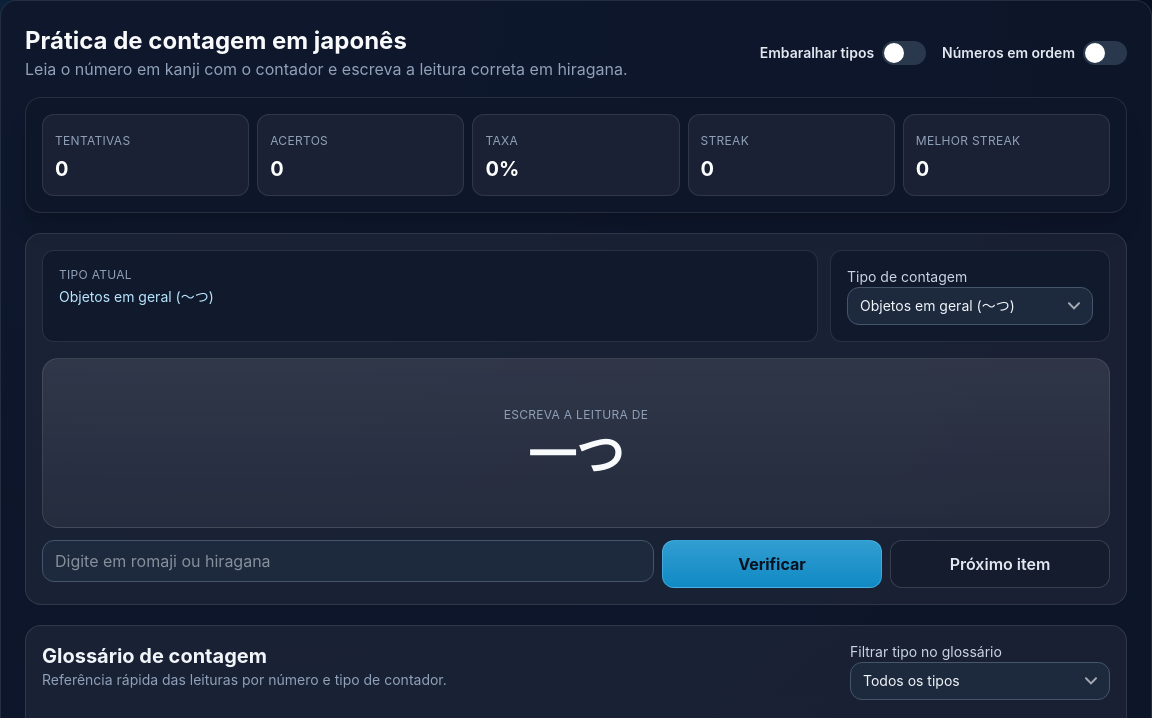
Test: CountingPracticeView › filtra o glossário pelo tipo selecionado
Click the button with aria-label "Filtrar tipo no glossário".
click(911, 680)  # box x1=850 y1=662 x2=1110 y2=700
(page scrolled)
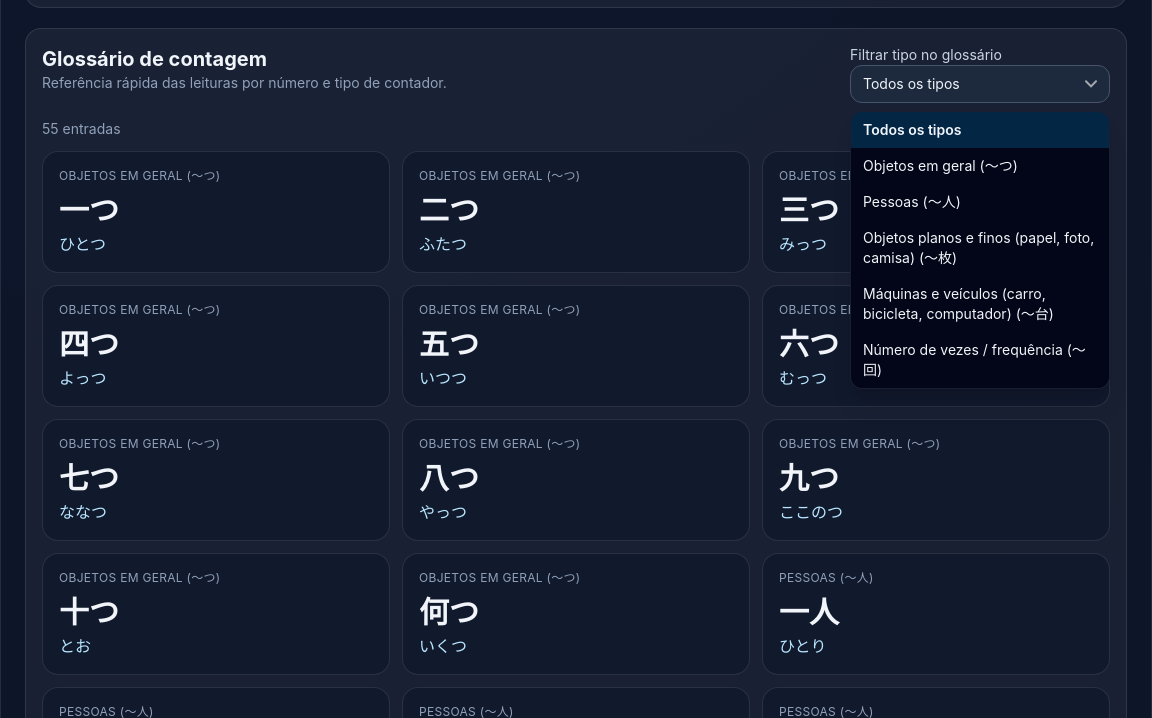
Expected: the option "Número de vezes / frequência (～回)" is shown
Click the option "Número de vezes / frequência (～回)".
click(980, 360)  # box x1=851 y1=332 x2=1109 y2=388
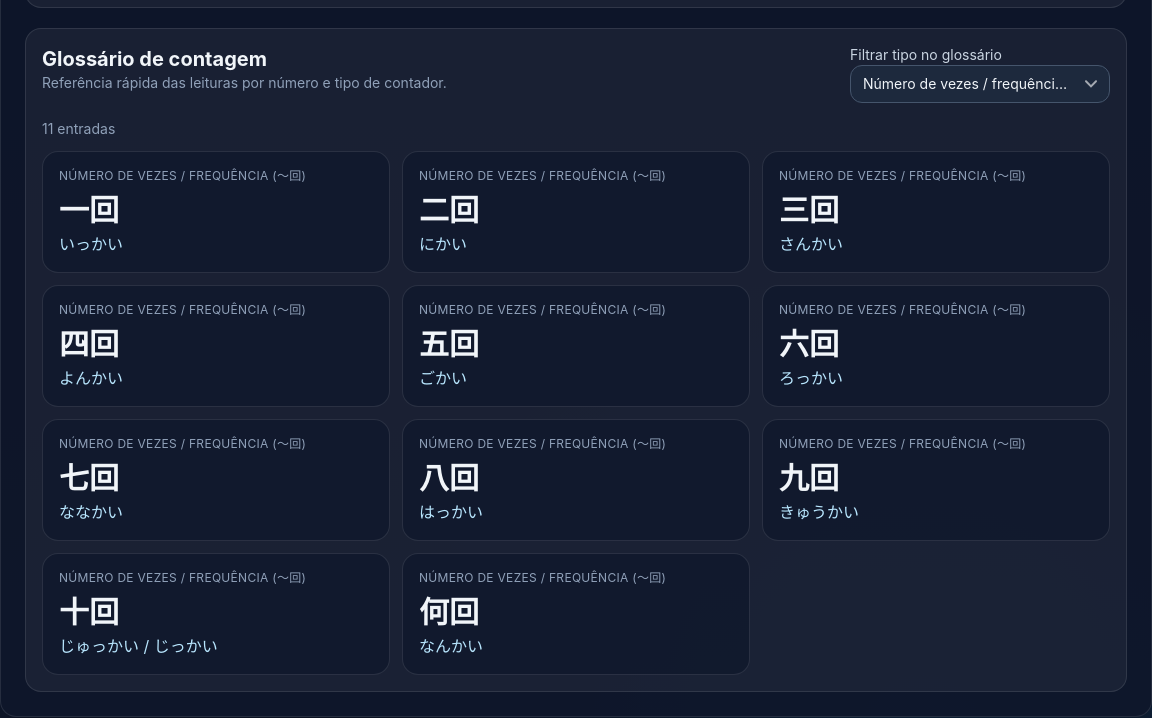
Expected: the text "一回" is shown, x1=59 y1=192 x2=119 y2=228
Expected: the text "11 entradas" is shown, x1=42 y1=120 x2=115 y2=137
